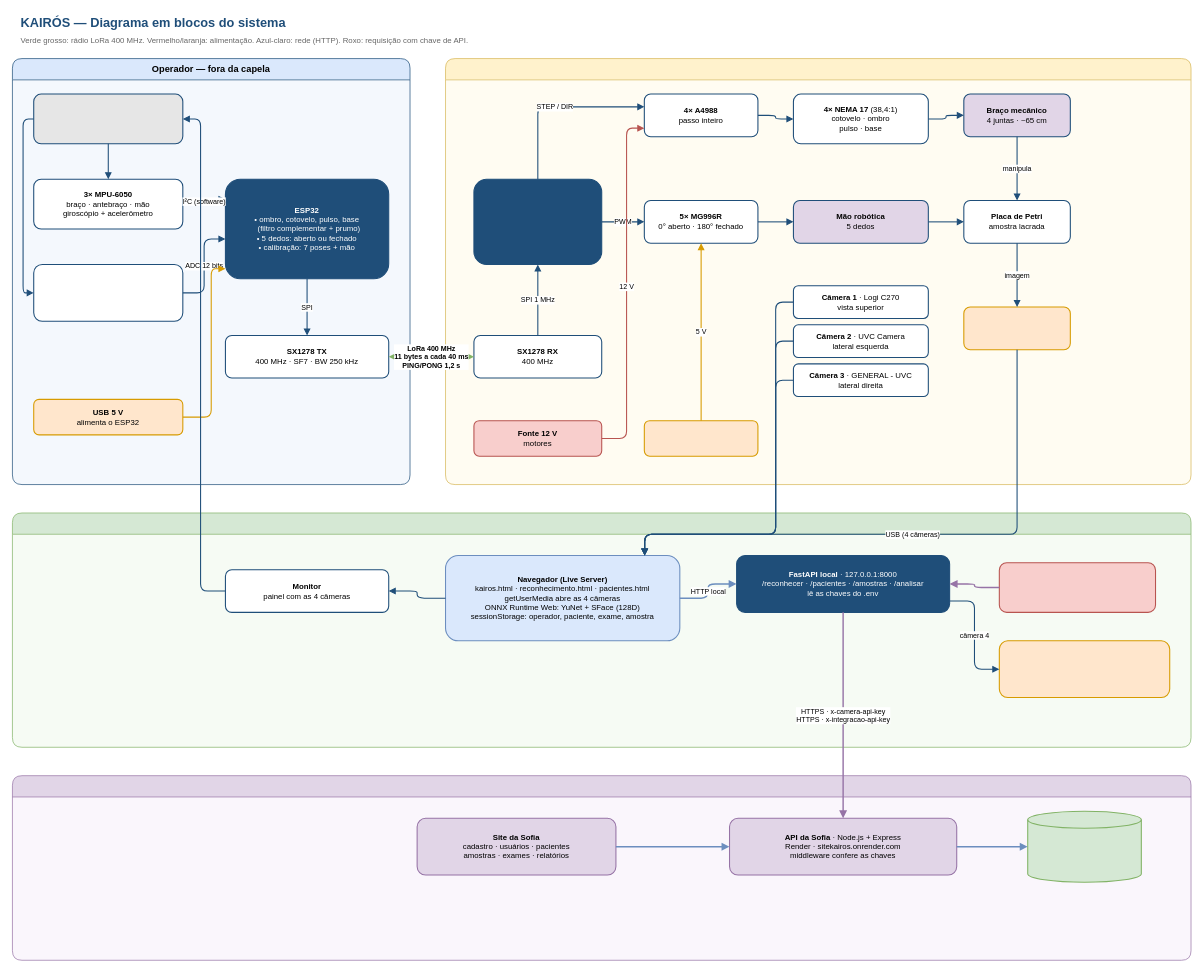
This 1203x973 diagram has some shape labels left out. Each missing label, with the box of its shape:
.env CAMERA_API_KEY INTEGRACAO_IA_API_KEY: (998, 562, 1156, 613)
5 sensores flex polegar · indicador · médio anelar · mindinho divisor com 66 kΩ: (33, 264, 183, 321)
Arduino Uno • rampa com jerk limitado • para se ficar 800 ms sem pacote: (473, 178, 602, 265)
Capela fechada (glove box) — 140 × 90 × 70 cm, PETG e madeira: (445, 58, 1191, 485)
Computador local do laboratório: (12, 512, 1191, 747)
Câmera 4 · ST301 macro / microscópio: (963, 306, 1071, 350)
Fonte 5 V servos: (643, 420, 758, 456)
IA ST301 · Ultralytics YOLO best.pt · fungo / sem_fungo envia se fungo ≥ 0,90: (998, 640, 1170, 698)
Nuvem — sistema da Sofia: (12, 775, 1191, 960)
Operador move o braço e os dedos vê o painel kairos.html: (33, 93, 183, 144)
Supabase PostgreSQL: (1027, 810, 1142, 882)
